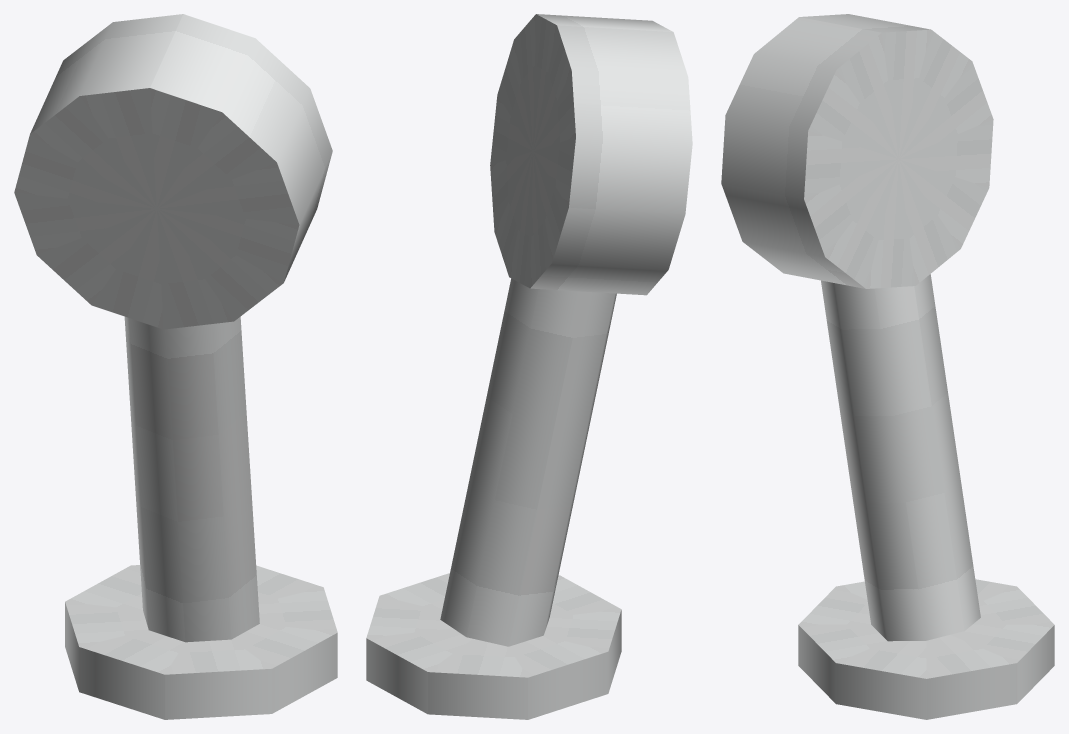
The model's file is nycsignalarm_stub_111.obj.
3 renders of one model, left to right at view 1: azimuth 30°, elevation 25°; view 2: azimuth 150°, elevation 25°; view 3: azimuth 270°, elevation 25°, orthographic. The views are drawn at different scales.
Visible parts, largest first — view 1: nycsignalarm_stub_111; view 2: nycsignalarm_stub_111; view 3: nycsignalarm_stub_111.
Boxes of the visible parts, left/top/right/bottom form: nycsignalarm_stub_111: left=14, top=14, right=337, bottom=719; nycsignalarm_stub_111: left=366, top=14, right=692, bottom=719; nycsignalarm_stub_111: left=721, top=14, right=1054, bottom=719.
Size of the model in its own units: 0.4554 by 0.9258 by 0.4554.
